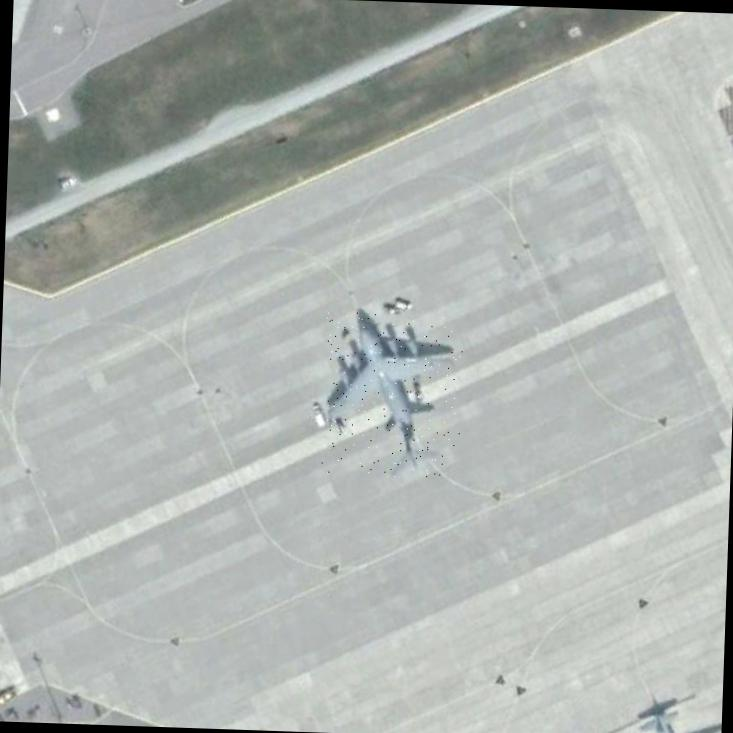A3: (320, 307, 463, 478)
